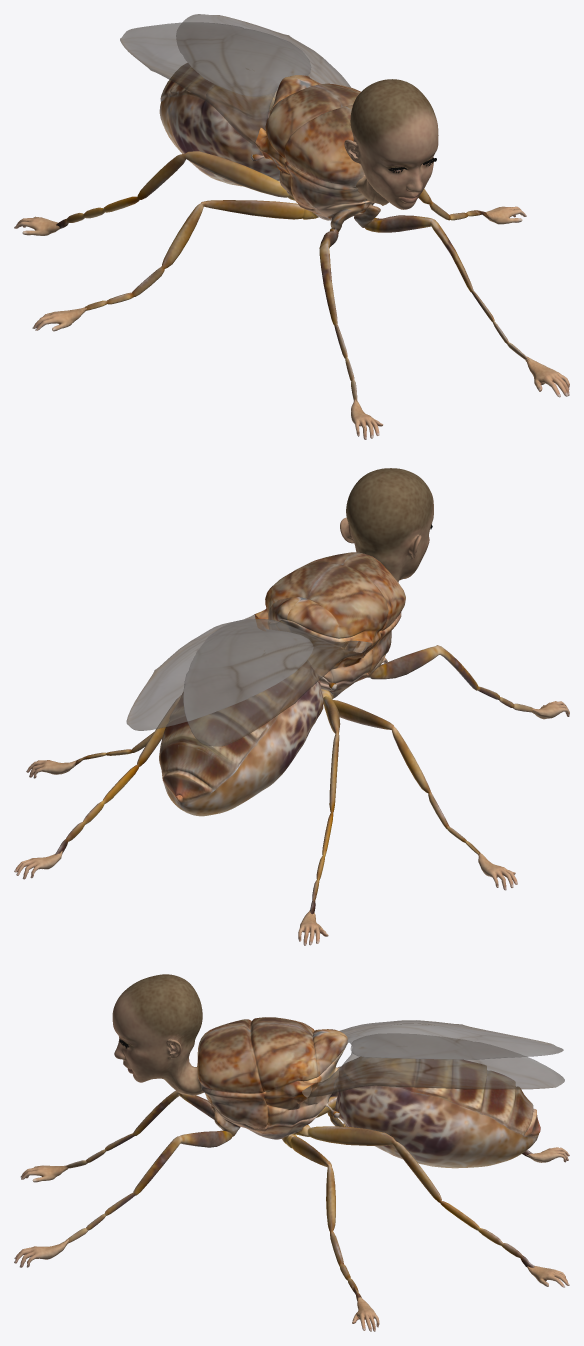
The model's file is flyer.glb.
The picture shows the model from 3 angles, top to bottom: view 1: azimuth 30°, elevation 25°; view 2: azimuth 150°, elevation 25°; view 3: azimuth 270°, elevation 25°; orthographic projection. The views are drawn at different scales.
Visible parts, largest first — view 1: FLYER; view 2: FLYER; view 3: FLYER.
Boxes of the visible parts, x1,y1,x2,y2 form: FLYER: [14, 14, 569, 439]; FLYER: [14, 468, 569, 945]; FLYER: [14, 974, 569, 1331].
Bounding box in the file's own units: 9.61 × 5.21 × 10.56.
Materials: 1 (1 with a texture image).
